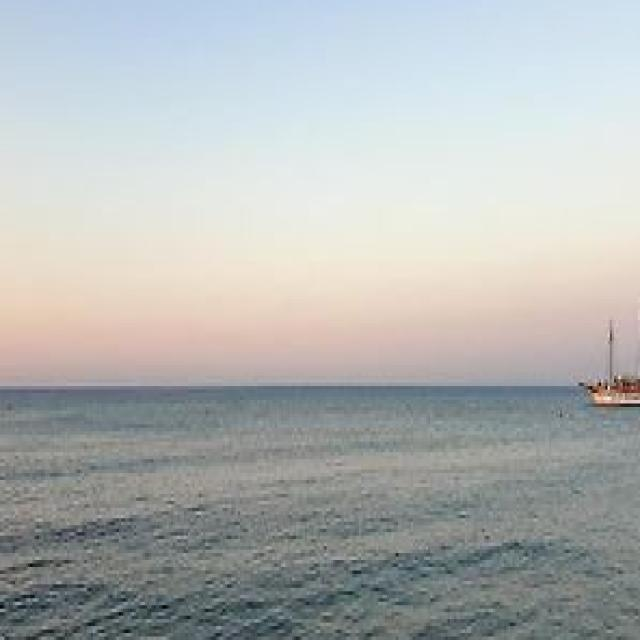fishing boat: (571, 296, 640, 421)
